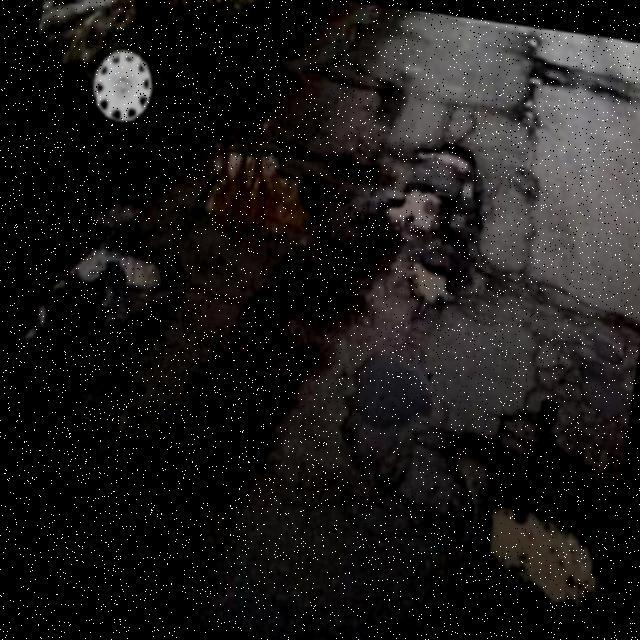Pothole: (461, 400, 615, 640), (192, 149, 319, 243), (69, 249, 171, 289), (386, 186, 441, 232), (409, 262, 455, 305), (416, 144, 475, 175), (463, 184, 476, 198), (453, 215, 464, 225)
